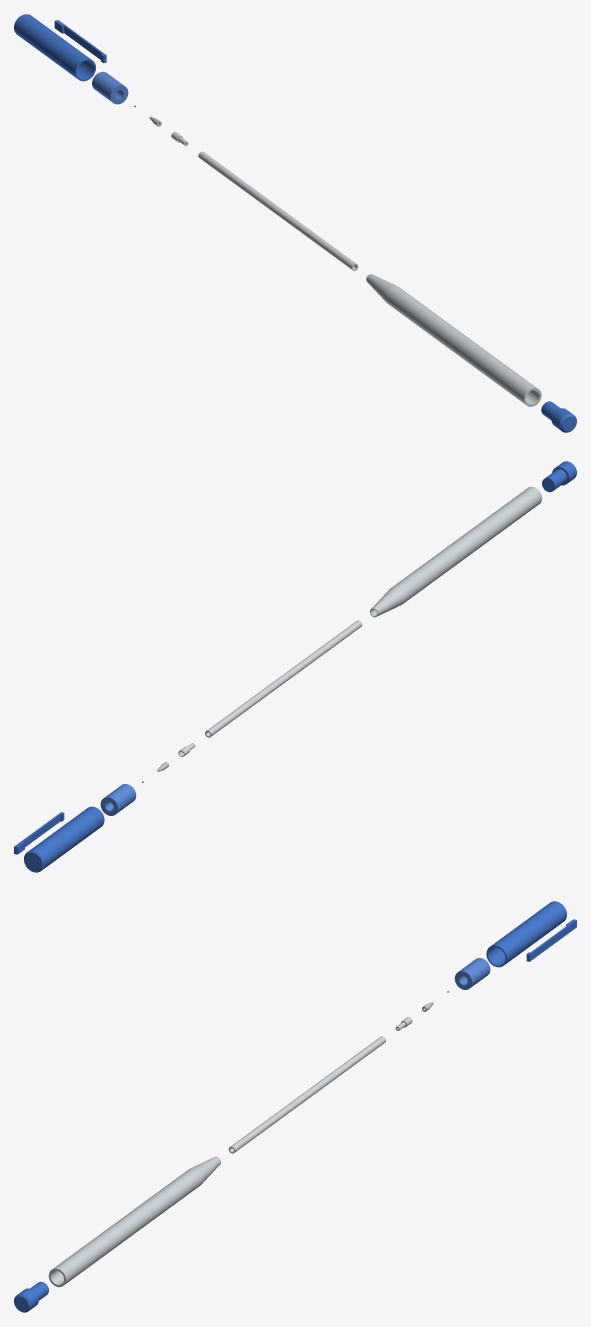
File: rorito_pen_exploded.glb
3 renders of one model, top to bottom at view 1: azimuth 30°, elevation 25°; view 2: azimuth 150°, elevation 25°; view 3: azimuth 330°, elevation 25°, orthographic.
Parts seen in each view (by area): view 1: Transparent_Barrel, Pen_Cap, Ink_Reservoir, Cap_Insert, Rear_End_Plug; view 2: Transparent_Barrel, Pen_Cap, Ink_Reservoir, Cap_Insert, Rear_End_Plug; view 3: Transparent_Barrel, Pen_Cap, Ink_Reservoir, Cap_Insert, Rear_End_Plug.
Boxes of the visible parts, left/top/right/bottom form: Transparent_Barrel: left=366, top=274, right=541, bottom=406; Pen_Cap: left=14, top=14, right=95, bottom=81; Ink_Reservoir: left=198, top=151, right=358, bottom=270; Cap_Insert: left=92, top=71, right=128, bottom=104; Rear_End_Plug: left=541, top=401, right=576, bottom=432; Transparent_Barrel: left=370, top=486, right=542, bottom=617; Pen_Cap: left=24, top=806, right=104, bottom=872; Ink_Reservoir: left=205, top=620, right=362, bottom=737; Cap_Insert: left=100, top=784, right=136, bottom=815; Rear_End_Plug: left=542, top=461, right=576, bottom=492; Transparent_Barrel: left=48, top=1156, right=220, bottom=1287; Pen_Cap: left=486, top=901, right=566, bottom=967; Ink_Reservoir: left=228, top=1036, right=385, bottom=1153; Cap_Insert: left=454, top=958, right=490, bottom=989; Rear_End_Plug: left=14, top=1281, right=48, bottom=1312.
Bounding box in the file's own units: 17.09 × 9.4 × 430.
